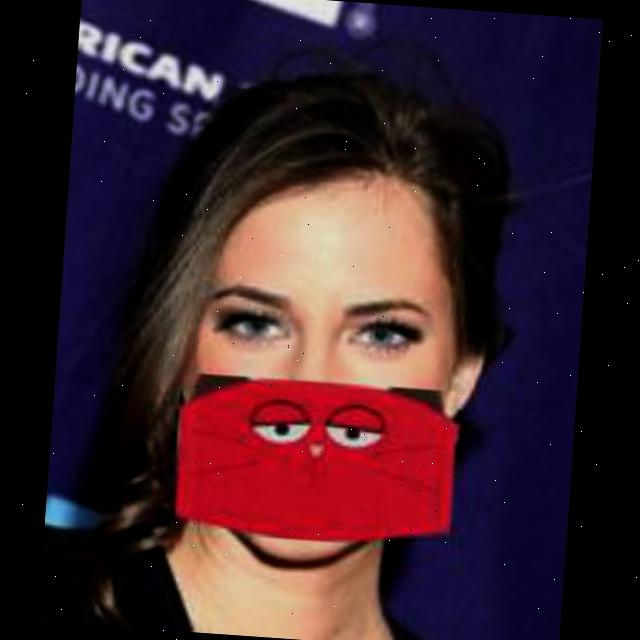suspicion: (154, 90, 480, 552)
